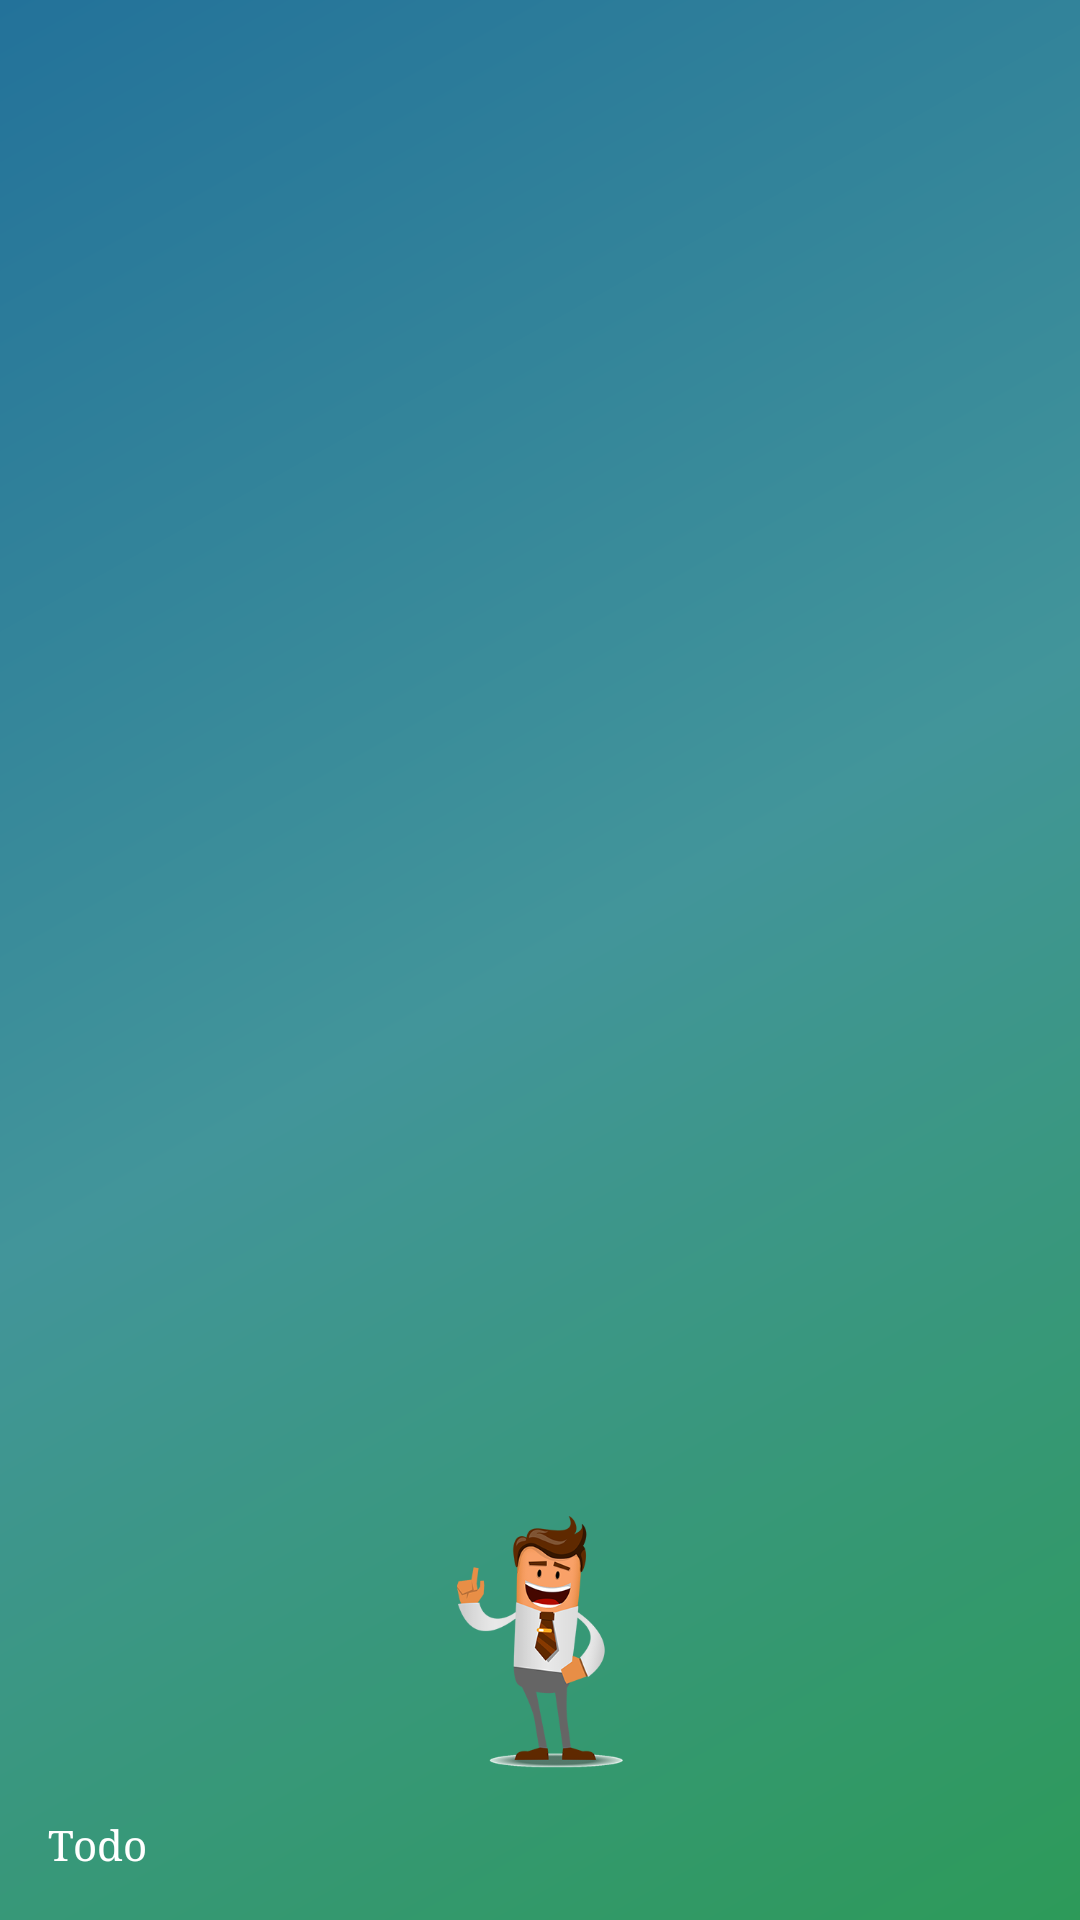

Screen size 1080 x 1920. Icon name, then its center in pixels as (x,y):
man: (540,1642)
